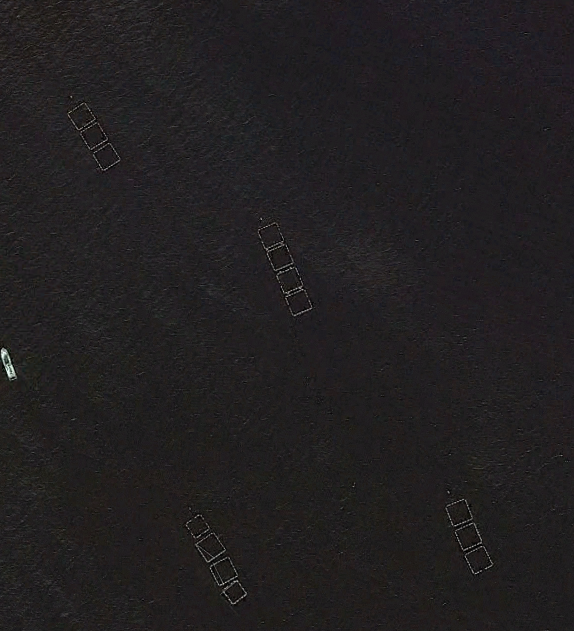ship: (1, 338, 20, 395)
square: (446, 511, 488, 554), (249, 217, 294, 256), (437, 494, 479, 532), (204, 551, 242, 591), (61, 100, 105, 134), (178, 509, 218, 546), (194, 530, 232, 567), (215, 572, 253, 607), (273, 263, 308, 300), (88, 137, 123, 172), (463, 539, 495, 577), (77, 118, 111, 153), (281, 287, 314, 320), (268, 241, 298, 272)
